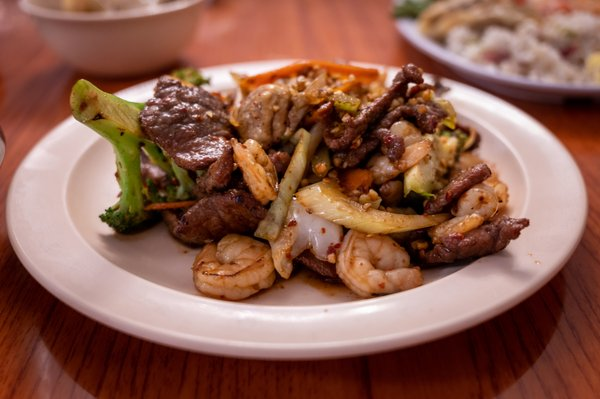curry: (68, 78, 197, 233)
sushi: (18, 0, 209, 81)
